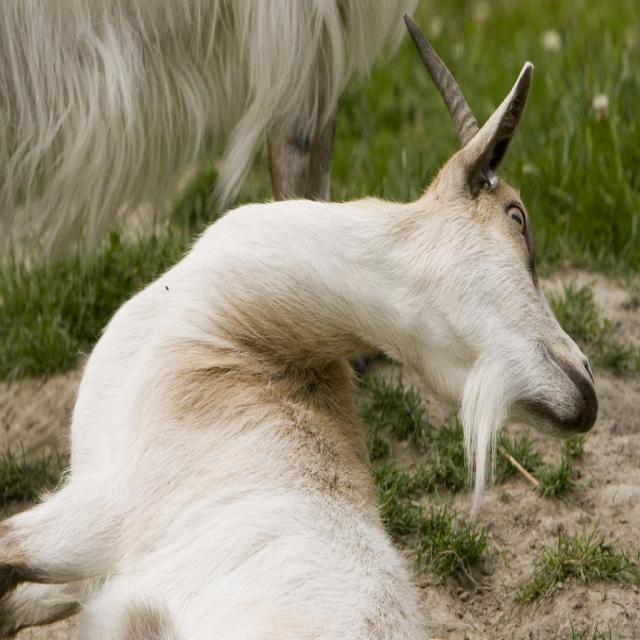Goat: (0, 11, 598, 638), (0, 0, 419, 275)
